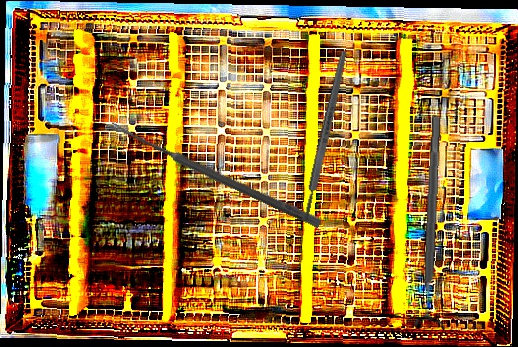Fixation Ring: (411, 113, 454, 333)
Scalpel Handle: (300, 50, 350, 222)
Surgical Spoon: (108, 120, 323, 229)
